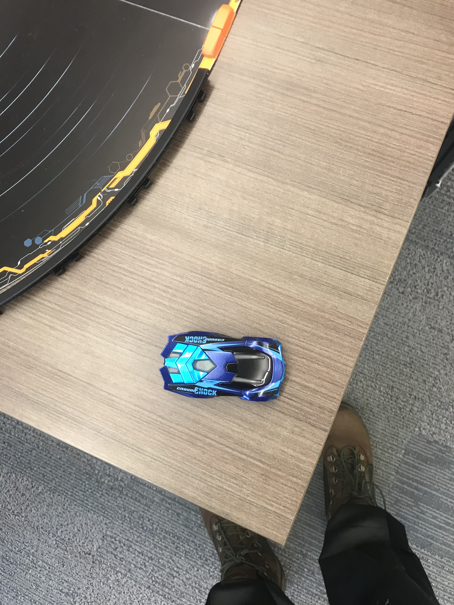Shock: (159, 331, 290, 401)
